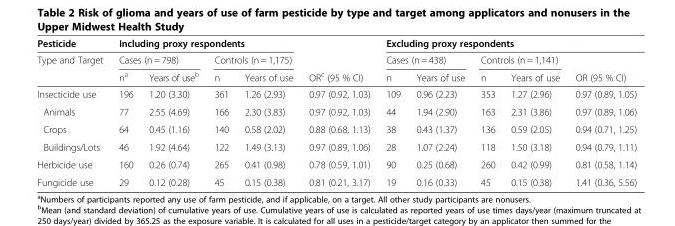table: (36, 37, 636, 187)
table column: (300, 37, 377, 187), (36, 37, 110, 187), (566, 37, 636, 187), (140, 37, 205, 187), (407, 37, 472, 187), (236, 37, 300, 187), (502, 37, 566, 187), (205, 37, 236, 187), (110, 37, 140, 187), (377, 37, 407, 187), (472, 37, 502, 187)
table column header: (36, 37, 636, 85)
table row: (36, 67, 636, 85), (36, 102, 636, 120), (36, 137, 636, 155), (36, 155, 636, 173), (36, 85, 636, 102), (36, 120, 636, 137), (36, 51, 636, 67), (36, 37, 636, 51), (36, 173, 636, 187)
table spanning cell: (300, 37, 377, 85), (36, 37, 110, 85), (566, 37, 636, 85), (110, 37, 300, 51), (377, 37, 566, 51), (110, 51, 205, 67), (205, 51, 300, 67), (377, 51, 472, 67), (472, 51, 566, 67)
